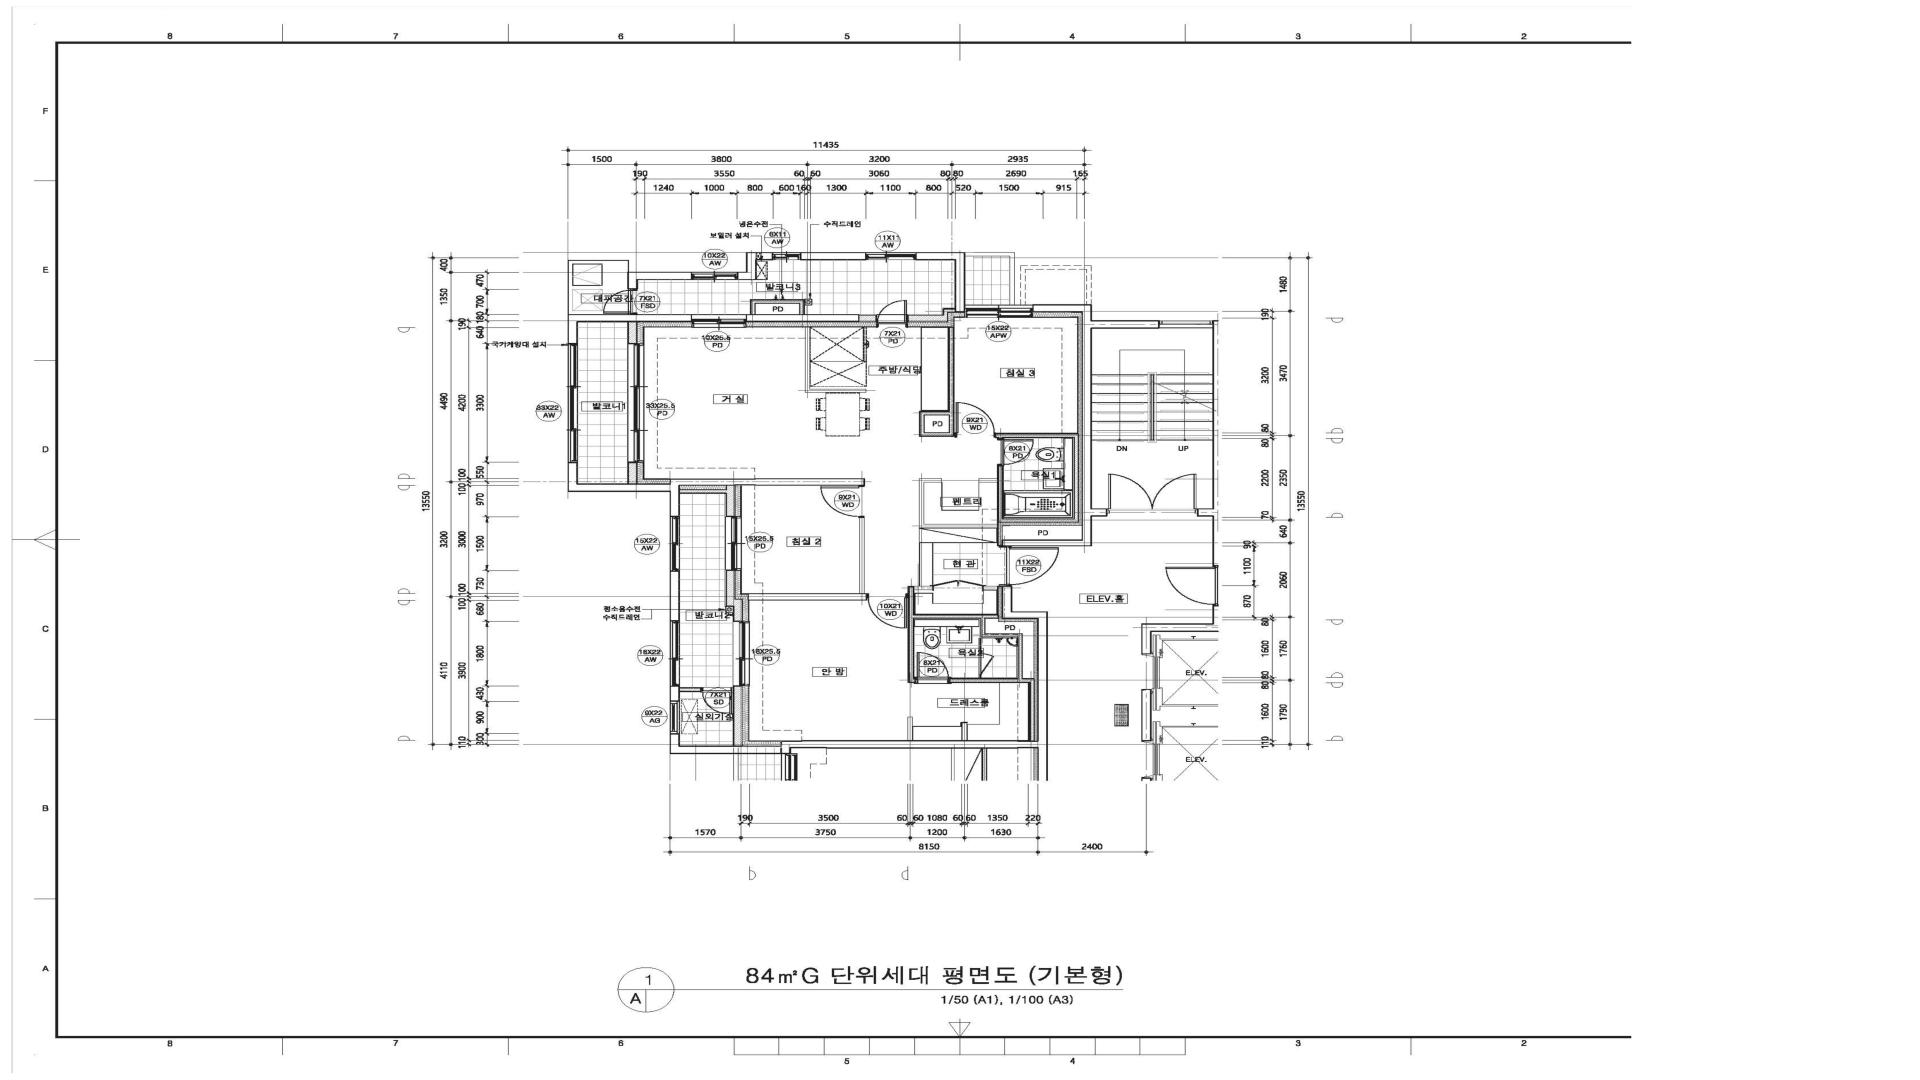door: (1108, 472, 1197, 513), (1005, 547, 1059, 585), (955, 401, 996, 435), (820, 485, 862, 517), (866, 596, 906, 629), (916, 651, 951, 680), (1002, 439, 1034, 464), (702, 690, 732, 715), (876, 299, 907, 322), (603, 290, 632, 314), (980, 653, 996, 675)
wall: (1002, 303, 1159, 546), (1002, 585, 1048, 781), (567, 463, 680, 516), (1197, 320, 1218, 566), (804, 327, 866, 393), (1141, 605, 1218, 654), (568, 315, 691, 343), (915, 252, 965, 313), (670, 733, 791, 754), (782, 740, 1038, 748), (679, 479, 865, 485), (626, 272, 691, 290), (919, 479, 942, 524), (738, 252, 773, 280), (725, 570, 742, 622), (746, 314, 858, 322), (749, 593, 866, 600), (907, 585, 915, 683), (948, 327, 955, 436), (907, 307, 955, 322), (572, 260, 629, 272), (733, 686, 742, 746), (1141, 688, 1151, 741), (994, 433, 1079, 439), (670, 571, 680, 621), (800, 252, 865, 260), (1073, 436, 1079, 522), (951, 678, 1034, 683), (915, 613, 998, 618), (860, 518, 865, 593), (1027, 683, 1034, 741), (997, 464, 1004, 518), (725, 485, 736, 517), (919, 524, 997, 527), (998, 518, 1073, 522), (1017, 633, 1023, 678), (567, 260, 572, 315), (1009, 256, 1014, 305), (626, 322, 637, 344), (680, 489, 725, 495), (628, 462, 637, 484), (965, 252, 1014, 256), (756, 299, 804, 303), (670, 686, 680, 702), (919, 410, 949, 415), (985, 633, 1018, 637), (907, 717, 913, 741), (997, 522, 1002, 546), (961, 723, 968, 741), (919, 433, 949, 436), (858, 315, 876, 322), (680, 687, 702, 692), (980, 618, 985, 637), (915, 585, 932, 591), (919, 415, 924, 433), (750, 299, 756, 314), (978, 479, 997, 483), (984, 585, 997, 591), (978, 638, 982, 653), (799, 303, 804, 314), (1141, 777, 1151, 781), (919, 527, 922, 543), (978, 675, 981, 678)
window: (628, 344, 645, 462), (567, 343, 578, 463), (733, 622, 750, 686), (725, 517, 742, 570), (965, 305, 1033, 318), (691, 314, 746, 327), (670, 621, 680, 687), (670, 516, 679, 571), (1159, 320, 1212, 328), (865, 252, 916, 260), (691, 272, 738, 280), (670, 702, 680, 733), (773, 252, 800, 260)
